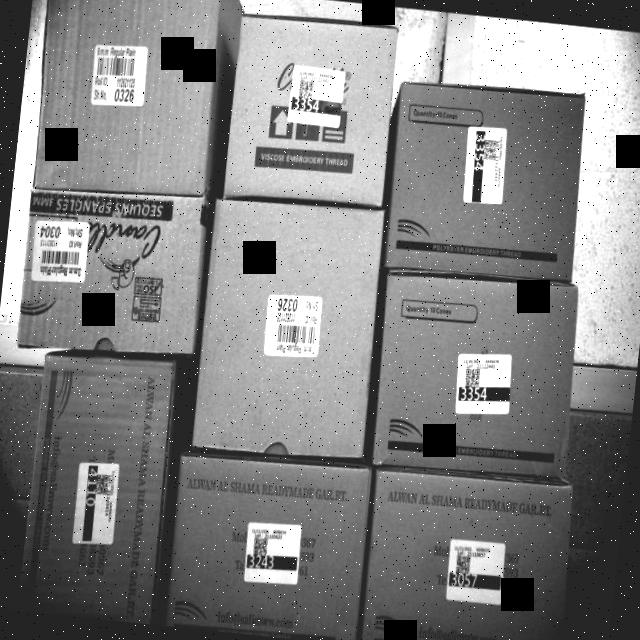box: (184, 192, 390, 466), (368, 270, 580, 478), (20, 348, 178, 624), (386, 80, 586, 294), (166, 452, 372, 640), (32, 0, 226, 199), (359, 463, 575, 640), (12, 186, 210, 362), (228, 10, 398, 204)
